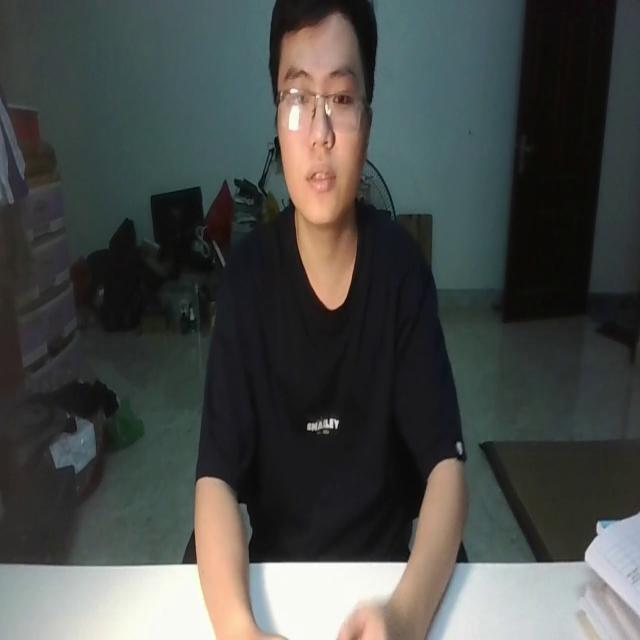student: (193, 0, 474, 640)
